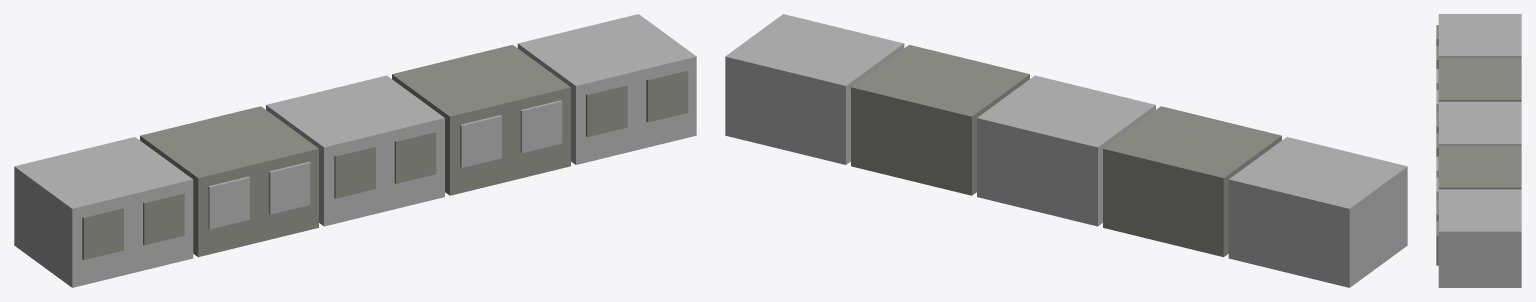
Rendered from SM_Palots_v2_Fila_LOD0.fbx.
3 renders of one model, left to right at view 1: azimuth 30°, elevation 25°; view 2: azimuth 150°, elevation 25°; view 3: azimuth 270°, elevation 25°, orthographic. The views are drawn at different scales.
Parts seen in each view (by area): view 1: SM_viveres_nules_v22_LOD0; view 2: SM_viveres_nules_v22_LOD0; view 3: SM_viveres_nules_v22_LOD0.
Boxes of the visible parts, bbox=[...] form: SM_viveres_nules_v22_LOD0: bbox=[14, 14, 696, 287]; SM_viveres_nules_v22_LOD0: bbox=[725, 14, 1407, 287]; SM_viveres_nules_v22_LOD0: bbox=[1436, 14, 1521, 287].
Bounding box in the file's own units: 6.2 × 0.75 × 1.02.
